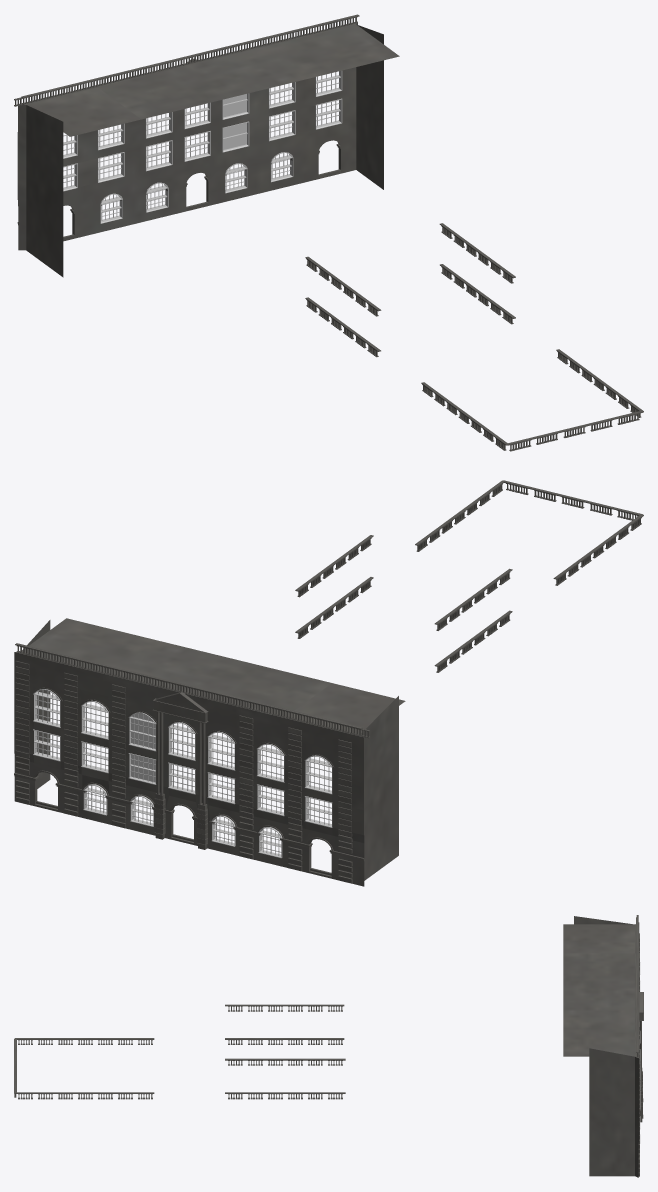
Rendered from 03_05_2020_fachadaventanasytablones.fbx.
3 renders of one model, top to bottom at view 1: azimuth 30°, elevation 25°; view 2: azimuth 150°, elevation 25°; view 3: azimuth 270°, elevation 25°, orthographic. The views are drawn at different scales.
Visible parts, largest first — view 1: Cube.030, Cube, Cube.001, Cube.003; view 2: Cube.030, Cube.001, Cube, Cube.003; view 3: Cube.030, Cube.
Part boxes in pixels (<box>): Cube.030: <box>17,21,399,277</box>; Cube: <box>14,14,643,451</box>; Cube.001: <box>63,70,342,223</box>; Cube.003: <box>223,94,246,149</box>; Cube.030: <box>14,618,405,886</box>; Cube.001: <box>33,689,332,858</box>; Cube: <box>15,480,643,738</box>; Cube.003: <box>131,713,155,782</box>; Cube.030: <box>563,916,643,1177</box>; Cube: <box>14,915,638,1099</box>.
Size of the model in its own units: 8872 by 3837 by 17118.
